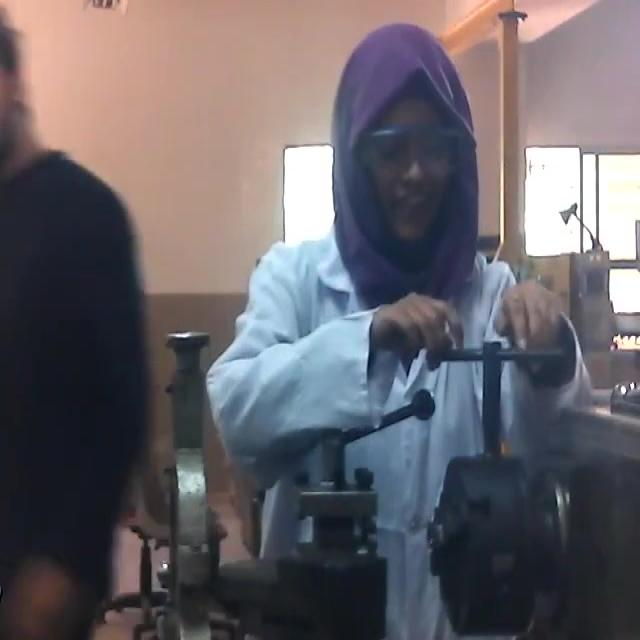googles: (353, 120, 468, 182)
labcoat: (205, 210, 595, 640)
